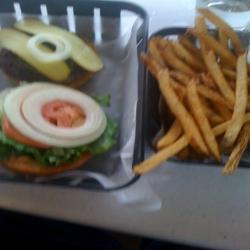burger: (4, 80, 116, 173)
fries: (145, 30, 250, 159)
